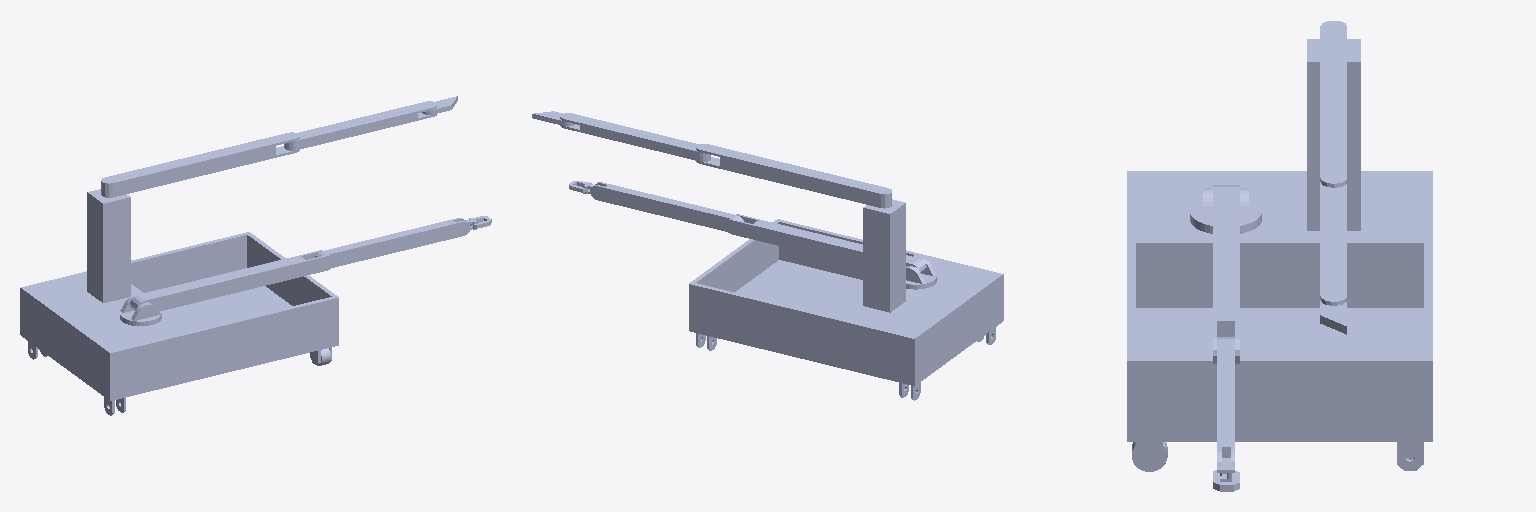
--- Facts derived from the render (not from the file) ---
The picture shows the robot from 3 angles, left to right: view 1: azimuth 30°, elevation 25°; view 2: azimuth 150°, elevation 25°; view 3: azimuth 270°, elevation 25°; orthographic projection.
Model banana_robot with 15 links and 14 joints (8 revolute, 4 continuous, 1 prismatic, 1 fixed), rooted at world, posed every joint at zero.
Links seen in each view (by area): view 1: base_link, arm2_link2, arm1_link2, arm1_link3, arm2_link3, arm1_link1; view 2: base_link, arm2_link2, arm1_link2, arm1_link3, arm2_link3, arm1_link1; view 3: base_link, arm2_link2, arm1_link2, arm2_link3, arm1_link3, arm1_link1, arm2_link1, arm2_link4.
Boxes of the visible links, box(x1,y1,x2,y2) form: base_link: box(20, 196, 338, 415); arm2_link2: box(101, 132, 299, 197); arm1_link2: box(130, 250, 334, 312); arm1_link3: box(315, 218, 470, 267); arm2_link3: box(284, 101, 436, 150); arm1_link1: box(120, 295, 161, 325); base_link: box(689, 207, 1003, 400); arm2_link2: box(696, 144, 891, 208); arm1_link2: box(724, 214, 926, 275); arm1_link3: box(590, 182, 743, 231); arm2_link3: box(560, 113, 710, 161); arm1_link1: box(906, 258, 936, 289); base_link: box(1127, 69, 1432, 470); arm2_link2: box(1320, 21, 1346, 187); arm1_link2: box(1213, 185, 1239, 363); arm2_link3: box(1320, 176, 1346, 305); arm1_link3: box(1217, 337, 1234, 475); arm1_link1: box(1190, 188, 1261, 233); arm2_link1: box(1307, 24, 1360, 68); arm2_link4: box(1320, 294, 1346, 334).
Size in the robot's own frame: 4.5 by 1.7 by 1.91 metres.
11 mesh visuals loaded from 14 distinct referenced files (11 binary STL); not drawn: 3 (reference not matched to a file when rendering).

URDF robot description (banana_robot):
<?xml version="1.0" encoding="utf-8"?>
<!-- This URDF was automatically created by SolidWorks to URDF Exporter! Originally created by Stephen Brawner ([email redacted]) 
     Commit Version: 1.5.1-0-g916b5db  Build Version: 1.5.7152.31018
     For more information, please see http://wiki.ros.org/sw_urdf_exporter -->
<robot
  name="banana_robot">
  <link
    name="base_link">
    <inertial>
      <origin
        xyz="-0.373170543665901 0.0159197538702998 -0.0131271809566358"
        rpy="0 0 0" />
      <mass
        value="1191.08155050657" />
      <inertia
        ixx="372.944863207244"
        ixy="4.30107780092459"
        ixz="47.9423790748847"
        iyy="642.319209146518"
        iyz="-11.7750865092983"
        izz="892.824842551087" />
    </inertial>
    <visual>
      <origin
        xyz="0 0 0"
        rpy="0 0 0" />
      <geometry>
        <mesh
          filename="package://urdf_sim_tutorial/meshes/base_link.STL" />
      </geometry>
      <material
        name="">
        <color
          rgba="0.792156862745098 0.819607843137255 0.933333333333333 1" />
      </material>
    </visual>
    <collision>
      <origin
        xyz="0 0 0"
        rpy="0 0 0" />
      <geometry>
        <mesh
          filename="package://urdf_sim_tutorial/meshes/base_link.STL" />
      </geometry>
    </collision>
  </link>
  <link
    name="wheel1">
    <inertial>
      <origin
        xyz="0 0 -2.2204E-16"
        rpy="0 0 0" />
      <mass
        value="3.2398" />
      <inertia
        ixx="0.015739"
        ixy="2.1176E-20"
        ixz="-4.2352E-20"
        iyy="0.010876"
        iyz="-5.5739E-19"
        izz="0.010876" />
    </inertial>
    <visual>
      <origin
        xyz="0 0 0"
        rpy="0 0 0" />
      <geometry>
        <mesh
          filename="package://urdf_sim_tutorial/meshes/wheel1.STL" />
      </geometry>
      <material
        name="">
        <color
          rgba="0.79216 0.81961 0.93333 1" />
      </material>
    </visual>
    <collision>
      <origin
        xyz="0 0 0"
        rpy="0 0 0" />
      <geometry>
        <mesh
          filename="package://urdf_sim_tutorial/meshes/wheel1.STL" />
      </geometry>
    </collision>
  </link>
  <joint
    name="base_link_to_wheel1"
    type="continuous">
    <origin
      xyz="1.125 -0.725 -0.37"
      rpy="0 0 0" />
    <parent
      link="base_link" />
    <child
      link="wheel1" />
    <axis
      xyz="1 0 0" />
    <limit
      effort="1000"
      velocity="0.5" />
  </joint>
  <link
    name="wheel2">
    <inertial>
      <origin
        xyz="4.33680868994202E-18 4.44089209850063E-16 0"
        rpy="0 0 0" />
      <mass
        value="3.23976742401447" />
      <inertia
        ixx="0.0157386428837067"
        ixy="1.12937726300572E-20"
        ixz="-4.2351647362715E-20"
        iyy="0.0108759237861092"
        iyz="-2.1791246057097E-19"
        izz="0.0108759237861092" />
    </inertial>
    <visual>
      <origin
        xyz="0 0 0"
        rpy="0 0 0" />
      <geometry>
        <mesh
          filename="package://urdf_sim_tutorial/meshes/wheel2.STL" />
      </geometry>
      <material
        name="">
        <color
          rgba="0.792156862745098 0.819607843137255 0.933333333333333 1" />
      </material>
    </visual>
    <collision>
      <origin
        xyz="0 0 0"
        rpy="0 0 0" />
      <geometry>
        <mesh
          filename="package://urdf_sim_tutorial/meshes/wheel2.STL" />
      </geometry>
    </collision>
  </link>
  <joint
    name="base_link_to_wheel2"
    type="continuous">
    <origin
      xyz="-1.125 -0.725 -0.37"
      rpy="0 0 0" />
    <parent
      link="base_link" />
    <child
      link="wheel2" />
    <axis
      xyz="1 0 0" />
    <limit
      effort="1000"
      velocity="0.5" />
  </joint>
  <link
    name="wheel3">
    <inertial>
      <origin
        xyz="4.3368E-18 0 0"
        rpy="0 0 0" />
      <mass
        value="3.2398" />
      <inertia
        ixx="0.015739"
        ixy="1.1294E-20"
        ixz="-4.2352E-20"
        iyy="0.010876"
        iyz="-2.1791E-19"
        izz="0.010876" />
    </inertial>
    <visual>
      <origin
        xyz="0 0 0"
        rpy="0 0 0" />
      <geometry>
        <mesh
          filename="package://urdf_sim_tutorial/meshes/wheel3.STL" />
      </geometry>
      <material
        name="">
        <color
          rgba="0.79216 0.81961 0.93333 1" />
      </material>
    </visual>
    <collision>
      <origin
        xyz="0 0 0"
        rpy="0 0 0" />
      <geometry>
        <mesh
          filename="package://urdf_sim_tutorial/meshes/wheel3.STL" />
      </geometry>
    </collision>
  </link>
  <joint
    name="base_link_to_wheel3"
    type="continuous">
    <origin
      xyz="-1.125 0.725 -0.37"
      rpy="0 0 0" />
    <parent
      link="base_link" />
    <child
      link="wheel3" />
    <axis
      xyz="1 0 0" />
    <limit
      effort="1000"
      velocity="0.5" />
  </joint>
  <link
    name="wheel4">
    <inertial>
      <origin
        xyz="0 0 -2.22044604925031E-16"
        rpy="0 0 0" />
      <mass
        value="3.23976742401446" />
      <inertia
        ixx="0.0157386428837066"
        ixy="2.11758236813573E-20"
        ixz="-4.2351647362715E-20"
        iyy="0.0108759237861092"
        iyz="-5.57387383962731E-19"
        izz="0.0108759237861092" />
    </inertial>
    <visual>
      <origin
        xyz="0 0 0"
        rpy="0 0 0" />
      <geometry>
        <mesh
          filename="package://urdf_sim_tutorial/meshes/wheel4.STL" />
      </geometry>
      <material
        name="">
        <color
          rgba="0.792156862745098 0.819607843137255 0.933333333333333 1" />
      </material>
    </visual>
    <collision>
      <origin
        xyz="0 0 0"
        rpy="0 0 0" />
      <geometry>
        <mesh
          filename="package://urdf_sim_tutorial/meshes/wheel4.STL" />
      </geometry>
    </collision>
  </link>
  <joint
    name="base_link_to_wheel4"
    type="continuous">
    <origin
      xyz="1.125 0.725 -0.37"
      rpy="0 0 0" />
    <parent
      link="base_link" />
    <child
      link="wheel4" />
    <axis
      xyz="1 0 0" />
    <limit
      effort="1000"
      velocity="0.5" />
  </joint>
  <link
    name="arm1_link1">
    <inertial>
      <origin
        xyz="1.11022302462516E-16 0 -0.0899421612400215"
        rpy="0 0 0" />
      <mass
        value="30.3337963399309" />
      <inertia
        ixx="0.643246565913193"
        ixy="-5.82335151237331E-18"
        ixz="-1.26757702916476E-18"
        iyy="0.626370474669819"
        iyz="4.27252040466284E-17"
        izz="0.408564224727811" />
    </inertial>
    <visual>
      <origin
        xyz="0 0 0"
        rpy="0 0 0" />
      <geometry>
        <mesh
          filename="package://urdf_sim_tutorial/meshes/arm1_link1.STL" />
      </geometry>
      <material
        name="">
        <color
          rgba="0.792156862745098 0.819607843137255 0.933333333333333 1" />
      </material>
    </visual>
    <collision>
      <origin
        xyz="0 0 0"
        rpy="0 0 0" />
      <geometry>
        <mesh
          filename="package://urdf_sim_tutorial/meshes/arm1_link1.STL" />
      </geometry>
    </collision>
  </link>
  <joint
    name="base_link_to_arm1_link1"
    type="revolute">
    <origin
      xyz="-0.6 -0.3 0.25"
      rpy="0 0 0" />
    <parent
      link="base_link" />
    <child
      link="arm1_link1" />
    <axis
      xyz="0 0 1" />
    <limit
      lower="-3.1415"
      upper="3.1415"
      effort="1000"
      velocity="0.5" />
  </joint>
  <link
    name="arm1_link2">
    <inertial>
      <origin
        xyz="0.902983819640065 -4.44089209850063E-16 -2.22044604925031E-15"
        rpy="0 0 0" />
      <mass
        value="43.5099555921539" />
      <inertia
        ixx="0.168281643345465"
        ixy="-1.25394155064484E-15"
        ixz="2.36405582026492E-15"
        iyy="14.0055904746337"
        iyz="2.84649869472838E-18"
        izz="13.9984094945799" />
    </inertial>
    <visual>
      <origin
        xyz="0 0 0"
        rpy="0 0 0" />
      <geometry>
        <mesh
          filename="package://urdf_sim_tutorial/meshes/arm1_link2.STL" />
      </geometry>
      <material
        name="">
        <color
          rgba="0.792156862745098 0.819607843137255 0.933333333333333 1" />
      </material>
    </visual>
    <collision>
      <origin
        xyz="0 0 0"
        rpy="0 0 0" />
      <geometry>
        <mesh
          filename="package://urdf_sim_tutorial/meshes/arm1_link2.STL" />
      </geometry>
    </collision>
  </link>
  <joint
    name="arm1_link1_to_link2"
    type="revolute">
    <origin
      xyz="0 0 0.13"
      rpy="1.5708 0 0" />
    <parent
      link="arm1_link1" />
    <child
      link="arm1_link2" />
    <axis
      xyz="0 0 1" />
    <limit
      lower="-3.1415"
      upper="3.1415"
      effort="1000"
      velocity="0.5" />
  </joint>
  <link
    name="arm1_link3">
    <inertial>
      <origin
        xyz="0.71159 0 -2.2204E-15"
        rpy="0 0 0" />
      <mass
        value="23.263" />
      <inertia
        ixx="0.063255"
        ixy="5.7492E-16"
        ixz="1.4796E-15"
        iyy="4.7295"
        iyz="-2.565E-18"
        izz="4.7523" />
    </inertial>
    <visual>
      <origin
        xyz="0 0 0"
        rpy="0 0 0" />
      <geometry>
        <mesh
          filename="package://urdf_sim_tutorial/meshes/arm1_link3.STL" />
      </geometry>
      <material
        name="">
        <color
          rgba="0.79216 0.81961 0.93333 1" />
      </material>
    </visual>
    <collision>
      <origin
        xyz="0 0 0"
        rpy="0 0 0" />
      <geometry>
        <mesh
          filename="package://urdf_sim_tutorial/meshes/arm1_link3.STL" />
      </geometry>
    </collision>
  </link>
  <joint
    name="arm1_link2_to_link3"
    type="revolute">
    <origin
      xyz="2 0 0"
      rpy="0 0 0" />
    <parent
      link="arm1_link2" />
    <child
      link="arm1_link3" />
    <axis
      xyz="0 0 1" />
    <limit
      lower="-3.1415"
      upper="3.1415"
      effort="1000"
      velocity="0.5" />
  </joint>
  <link
    name="arm1_link4">
    <inertial>
      <origin
        xyz="0.089507 0 0.014927"
        rpy="0 0 0" />
      <mass
        value="1.0313" />
      <inertia
        ixx="0.0014597"
        ixy="7.6981E-20"
        ixz="-0.0017111"
        iyy="0.0087877"
        iyz="1.4478E-20"
        izz="0.0082624" />
    </inertial>
    <visual>
      <origin
        xyz="0 0 0"
        rpy="0 0 0" />
      <geometry>
        <mesh
          filename="package://urdf_sim_tutorial/meshes/arm1_link4_new.STL" />
      </geometry>
      <material
        name="">
        <color
          rgba="0.79216 0.81961 0.93333 1" />
      </material>
    </visual>
    <collision>
      <origin
        xyz="0 0 0"
        rpy="0 0 0" />
      <geometry>
        <mesh
          filename="package://urdf_sim_tutorial/meshes/arm1_link4_new.STL" />
      </geometry>
    </collision>
  </link>
  <joint
    name="arm1_link3_to_link4"
    type="revolute">
    <origin
      xyz="1.5 0 0"
      rpy="0 0 0" />
    <parent
      link="arm1_link3" />
    <child
      link="arm1_link4" />
    <axis
      xyz="0 0 1" />
    <limit
      lower="-3.1415"
      upper="3.1415"
      effort="1000"
      velocity="0.5" />
  </joint>
  <link
    name="left_gripper">
    <inertial>
      <origin
        xyz="0.09047 0.011404 4.4409E-16"
        rpy="0 0 0" />
      <mass
        value="0.44546" />
      <inertia
        ixx="0.00039647"
        ixy="0.00026652"
        ixz="-8.9444E-20"
        iyy="0.0018436"
        iyz="4.5128E-21"
        izz="0.0021012" />
    </inertial>
    <visual>
      <origin
        xyz="0 0 0"
        rpy="0 0 0" />
      <geometry>
        <mesh
          filename="package://urdf_sim_tutorial/meshes/left_gripper_new.STL" />
      </geometry>
      <material
        name="">
        <color
          rgba="0.79216 0.81961 0.93333 1" />
      </material>
    </visual>
    <collision>
      <origin
        xyz="0 0 0"
        rpy="0 0 0" />
      <geometry>
        <mesh
          filename="package://urdf_sim_tutorial/meshes/left_gripper_new.STL" />
      </geometry>
    </collision>
  </link>
  <joint
    name="arm1_link4_to_left_gripper"
    type="revolute">
    <origin
      xyz="0.13 0 -0.025"
      rpy="-1.5708 0 0" />
    <parent
      link="arm1_link4" />
    <child
      link="left_gripper" />
    <axis
      xyz="0 0 1" />
    <limit
      lower="-3.1415"
      upper="3.1415"
      effort="1000"
      velocity="0.2" />
  </joint>
  <link
    name="arm2_link1">
    <inertial>
      <origin
        xyz="1.11022302462516E-16 4.44089209850063E-16 0.447068258452662"
        rpy="0 0 0" />
      <mass
        value="51.8945243112741" />
      <inertia
        ixx="7.36751822699342"
        ixy="6.19180632691988E-18"
        ixz="-9.36404622380061E-17"
        iyy="7.36751822699342"
        iyz="9.3859731137619E-17"
        izz="0.374092038847274" />
    </inertial>
    <visual>
      <origin
        xyz="0 0 0"
        rpy="0 0 0" />
      <geometry>
        <mesh
          filename="package://urdf_sim_tutorial/meshes/arm2_link1.STL" />
      </geometry>
      <material
        name="">
        <color
          rgba="0.792156862745098 0.819607843137255 0.933333333333333 1" />
      </material>
    </visual>
    <collision>
      <origin
        xyz="0 0 0"
        rpy="0 0 0" />
      <geometry>
        <mesh
          filename="package://urdf_sim_tutorial/meshes/arm2_link1.STL" />
      </geometry>
    </collision>
  </link>
  <joint
    name="base_link_to_arm2_link1"
    type="prismatic">
    <origin
      xyz="-0.6 0.3 0.25"
      rpy="0 0 0" />
    <parent
      link="base_link" />
    <child
      link="arm2_link1" />
    <axis
      xyz="0 0 1" />
    <limit
      lower="0"
      upper="1.2"
      effort="1000"
      velocity="0.5" />
  </joint>
  <link
    name="arm2_link2">
    <inertial>
      <origin
        xyz="0.9137 0 0"
        rpy="0 0 0" />
      <mass
        value="42.999" />
      <inertia
        ixx="0.16533"
        ixy="1.2305E-16"
        ixz="-3.9882E-17"
        iyy="13.581"
        iyz="-2.5095E-19"
        izz="13.577" />
    </inertial>
    <visual>
      <origin
        xyz="0 0 0"
        rpy="0 0 0" />
      <geometry>
        <mesh
          filename="package://urdf_sim_tutorial/meshes/arm2_link2.STL" />
      </geometry>
      <material
        name="">
        <color
          rgba="0.79216 0.81961 0.93333 1" />
      </material>
    </visual>
    <collision>
      <origin
        xyz="0 0 0"
        rpy="0 0 0" />
      <geometry>
        <mesh
          filename="package://urdf_sim_tutorial/meshes/arm2_link2.STL" />
      </geometry>
    </collision>
  </link>
  <joint
    name="arm2_link1_to_link2"
    type="revolute">
    <origin
      xyz="0 0 1.115"
      rpy="0 0 0" />
    <parent
      link="arm2_link1" />
    <child
      link="arm2_link2" />
    <axis
      xyz="0 0 1" />
    <limit
      lower="-3.1415"
      upper="3.1415"
      effort="1000"
      velocity="0.5" />
  </joint>
  <link
    name="arm2_link3">
    <inertial>
      <origin
        xyz="0.68949 4.4409E-16 0"
        rpy="0 0 0" />
      <mass
        value="22.513" />
      <inertia
        ixx="0.061693"
        ixy="6.1041E-18"
        ixz="5.298E-18"
        iyy="4.3877"
        iyz="3.9174E-19"
        izz="4.4092" />
    </inertial>
    <visual>
      <origin
        xyz="0 0 0"
        rpy="0 0 0" />
      <geometry>
        <mesh
          filename="package://urdf_sim_tutorial/meshes/arm2_link3.STL" />
      </geometry>
      <material
        name="">
        <color
          rgba="0.79216 0.81961 0.93333 1" />
      </material>
    </visual>
    <collision>
      <origin
        xyz="0 0 0"
        rpy="0 0 0" />
      <geometry>
        <mesh
          filename="package://urdf_sim_tutorial/meshes/arm2_link3.STL" />
      </geometry>
    </collision>
  </link>
  <joint
    name="arm2_link2_to_link3"
    type="revolute">
    <origin
      xyz="2 0 0"
      rpy="0 0 0" />
    <parent
      link="arm2_link2" />
    <child
      link="arm2_link3" />
    <axis
      xyz="0 0 1" />
    <limit
      lower="-3.1415"
      upper="3.1415"
      effort="1000"
      velocity="0.5" />
  </joint>
  <link
    name="arm2_link4">
    <inertial>
      <origin
        xyz="0.10627 0.0054035 4.4409E-16"
        rpy="0 0 0" />
      <mass
        value="2.6025" />
      <inertia
        ixx="0.0050927"
        ixy="-0.0023728"
        ixz="4.1284E-20"
        iyy="0.027771"
        iyz="-1.1149E-19"
        izz="0.031534" />
    </inertial>
    <visual>
      <origin
        xyz="0 0 0"
        rpy="0 0 0" />
      <geometry>
        <mesh
          filename="package://urdf_sim_tutorial/meshes/arm2_link4.STL" />
      </geometry>
      <material
        name="">
        <color
          rgba="0.79216 0.81961 0.93333 1" />
      </material>
    </visual>
    <collision>
      <origin
        xyz="0 0 0"
        rpy="0 0 0" />
      <geometry>
        <mesh
          filename="package://urdf_sim_tutorial/meshes/arm2_link4.STL" />
      </geometry>
    </collision>
  </link>
  <joint
    name="arm2_link3_to_link4"
    type="revolute">
    <origin
      xyz="1.5 0 0"
      rpy="0 0 0" />
    <parent
      link="arm2_link3" />
    <child
      link="arm2_link4" />
    <axis
      xyz="0 0 1" />
    <limit
      lower="-3.1415"
      upper="3.1415"
      effort="1000"
      velocity="0.5" />
  </joint>

<link name="world" />
<joint name="world_joint"  type="fixed">
    <origin xyz="0 0 0" rpy="0 0 0" />
    <parent link="world"/>
    <child link="base_link"/>
</joint>


<transmission name="trans_base_link_to_wheel1">
        <type>transmission_interface/SimpleTransmission</type>
        <joint name="base_link_to_wheel1">
            <hardwareInterface>PositionJointInterface</hardwareInterface>
        </joint>
        <actuator name="base_link_to_wheel1_motor">
            <hardwareInterface>PositionJointInterface</hardwareInterface>
            <mechanicalReduction>1</mechanicalReduction>
        </actuator>
    </transmission>
    <transmission name="trans_base_link_to_wheel2">
        <type>transmission_interface/SimpleTransmission</type>
        <joint name="base_link_to_wheel2">
            <hardwareInterface>PositionJointInterface</hardwareInterface>
        </joint>
        <actuator name="base_link_to_wheel2_motor">
            <hardwareInterface>PositionJointInterface</hardwareInterface>
            <mechanicalReduction>1</mechanicalReduction>
        </actuator>
    </transmission>
    <transmission name="trans_base_link_to_wheel3">
        <type>transmission_interface/SimpleTransmission</type>
        <joint name="base_link_to_wheel3">
            <hardwareInterface>PositionJointInterface</hardwareInterface>
        </joint>
        <actuator name="base_link_to_wheel3_motor">
            <hardwareInterface>PositionJointInterface</hardwareInterface>
            <mechanicalReduction>1</mechanicalReduction>
        </actuator>
    </transmission>
    <transmission name="trans_base_link_to_wheel4">
        <type>transmission_interface/SimpleTransmission</type>
        <joint name="base_link_to_wheel4">
            <hardwareInterface>PositionJointInterface</hardwareInterface>
        </joint>
        <actuator name="base_link_to_wheel4_motor">
            <hardwareInterface>PositionJointInterface</hardwareInterface>
            <mechanicalReduction>1</mechanicalReduction>
        </actuator>
    </transmission>
    <transmission name="trans_base_link_to_arm1_link1">
        <type>transmission_interface/SimpleTransmission</type>
        <joint name="base_link_to_arm1_link1">
            <hardwareInterface>PositionJointInterface</hardwareInterface>
        </joint>
        <actuator name="base_link_to_arm1_link1_motor">
            <hardwareInterface>PositionJointInterface</hardwareInterface>
            <mechanicalReduction>1</mechanicalReduction>
        </actuator>
    </transmission>
    <transmission name="trans_arm1_link1_to_link2">
        <type>transmission_interface/SimpleTransmission</type>
        <joint name="arm1_link1_to_link2">
            <hardwareInterface>PositionJointInterface</hardwareInterface>
        </joint>
        <actuator name="arm1_link1_to_link2_motor">
            <hardwareInterface>PositionJointInterface</hardwareInterface>
            <mechanicalReduction>1</mechanicalReduction>
        </actuator>
    </transmission>
    <transmission name="trans_arm1_link2_to_link3">
        <type>transmission_interface/SimpleTransmission</type>
        <joint name="arm1_link2_to_link3">
            <hardwareInterface>PositionJointInterface</hardwareInterface>
        </joint>
        <actuator name="arm1_link2_to_link3_motor">
            <hardwareInterface>PositionJointInterface</hardwareInterface>
            <mechanicalReduction>1</mechanicalReduction>
        </actuator>
    </transmission>
    <transmission name="trans_arm1_link3_to_link4">
        <type>transmission_interface/SimpleTransmission</type>
        <joint name="arm1_link3_to_link4">
            <hardwareInterface>PositionJointInterface</hardwareInterface>
        </joint>
        <actuator name="arm1_link3_to_link4_motor">
            <hardwareInterface>PositionJointInterface</hardwareInterface>
            <mechanicalReduction>1</mechanicalReduction>
        </actuator>
    </transmission>
    <transmission name="trans_arm1_link4_to_left_gripper">
        <type>transmission_interface/SimpleTransmission</type>
        <joint name="arm1_link4_to_left_gripper">
            <hardwareInterface>PositionJointInterface</hardwareInterface>
        </joint>
        <actuator name="arm1_link4_to_left_gripper_motor">
            <hardwareInterface>PositionJointInterface</hardwareInterface>
            <mechanicalReduction>1</mechanicalReduction>
        </actuator>
    </transmission>
    <transmission name="trans_base_link_to_arm2_link1">
        <type>transmission_interface/SimpleTransmission</type>
        <joint name="base_link_to_arm2_link1">
            <hardwareInterface>PositionJointInterface</hardwareInterface>
        </joint>
        <actuator name="base_link_to_arm2_link1_motor">
            <hardwareInterface>PositionJointInterface</hardwareInterface>
            <mechanicalReduction>1</mechanicalReduction>
        </actuator>
    </transmission>
    <transmission name="trans_arm2_link1_to_link2">
        <type>transmission_interface/SimpleTransmission</type>
        <joint name="arm2_link1_to_link2">
            <hardwareInterface>PositionJointInterface</hardwareInterface>
        </joint>
        <actuator name="arm2_link1_to_link2_motor">
            <hardwareInterface>PositionJointInterface</hardwareInterface>
            <mechanicalReduction>1</mechanicalReduction>
        </actuator>
    </transmission>
    <transmission name="trans_arm2_link2_to_link3">
        <type>transmission_interface/SimpleTransmission</type>
        <joint name="arm2_link2_to_link3">
            <hardwareInterface>PositionJointInterface</hardwareInterface>
        </joint>
        <actuator name="arm2_link2_to_link3_motor">
            <hardwareInterface>PositionJointInterface</hardwareInterface>
            <mechanicalReduction>1</mechanicalReduction>
        </actuator>
    </transmission>
    <transmission name="trans_arm2_link3_to_link4">
        <type>transmission_interface/SimpleTransmission</type>
        <joint name="arm2_link3_to_link4">
            <hardwareInterface>PositionJointInterface</hardwareInterface>
        </joint>
        <actuator name="arm2_link3_to_link4_motor">
            <hardwareInterface>PositionJointInterface</hardwareInterface>
            <mechanicalReduction>1</mechanicalReduction>
        </actuator>
    </transmission>
    <gazebo>
        <mu1>50.0</mu1>  
        <mu2>100.0</mu2>  
        <minDepth>0.003</minDepth> 
        <plugin name="gazebo_ros_control" filename="libgazebo_ros_control.so">
            <robotNamespace>/</robotNamespace>
        </plugin>
    </gazebo>

</robot>
